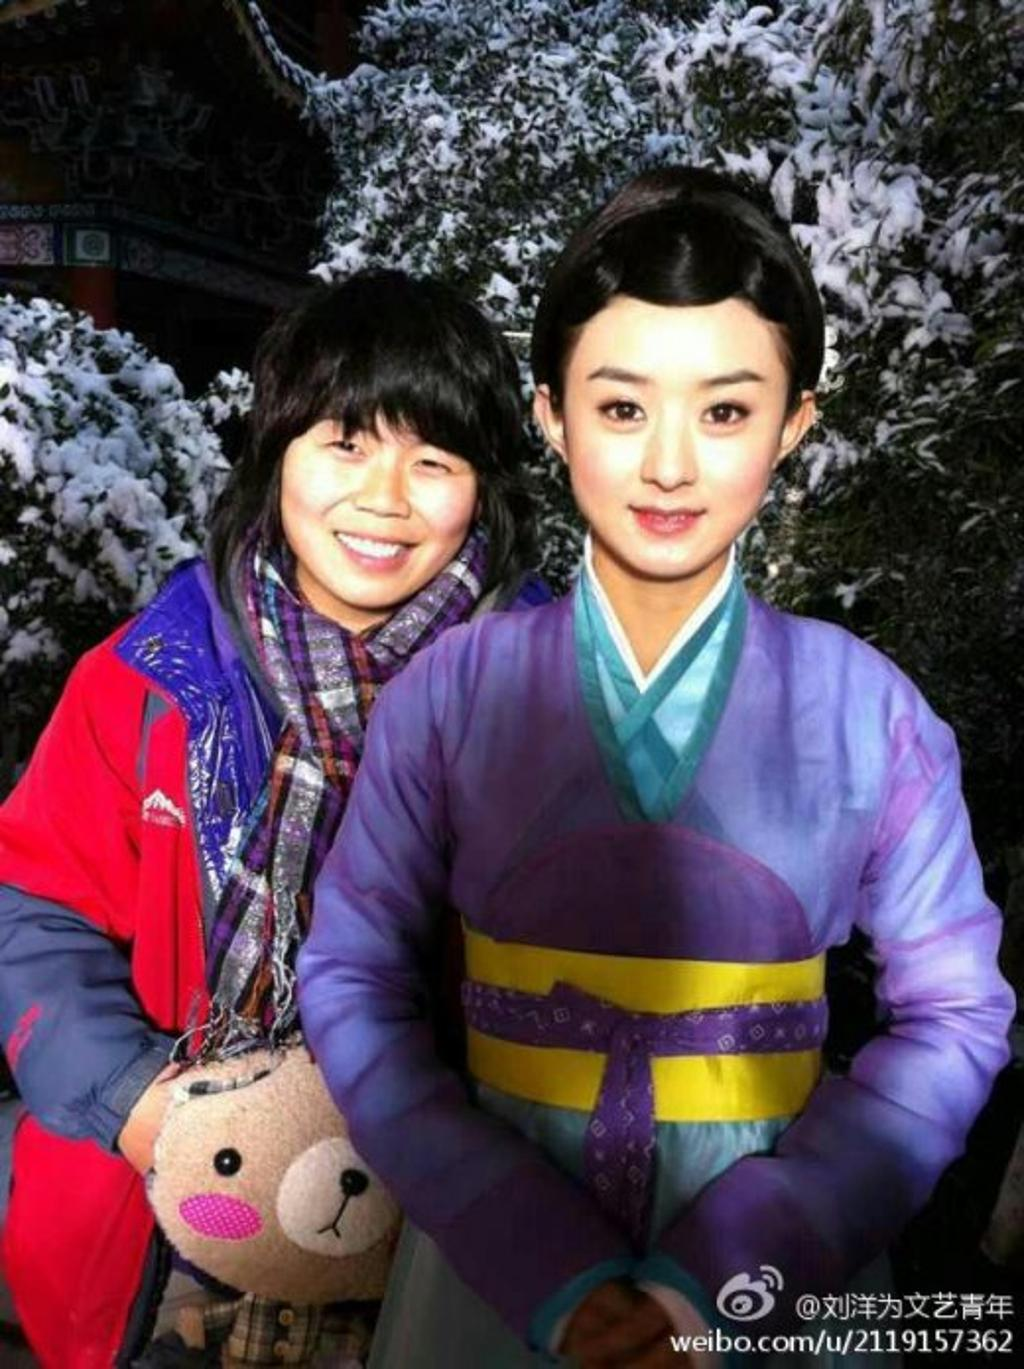face: (569, 294, 783, 569), (289, 348, 463, 602)
